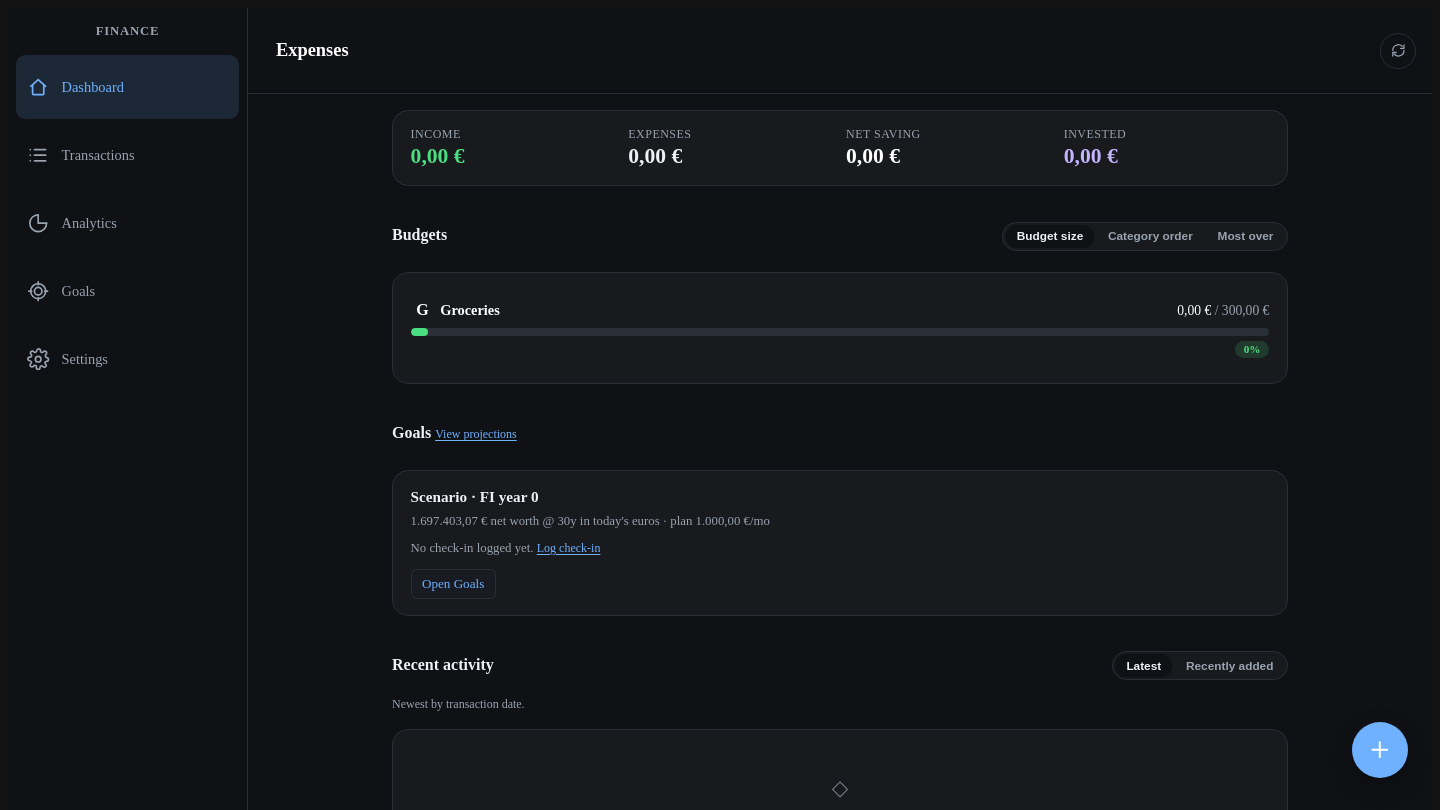
ExpensesApp tab wiring › sends the dashboard nudge to Goals with the check-in form open
Click the button "Log check-in": (569, 548) [537,541,600,556]
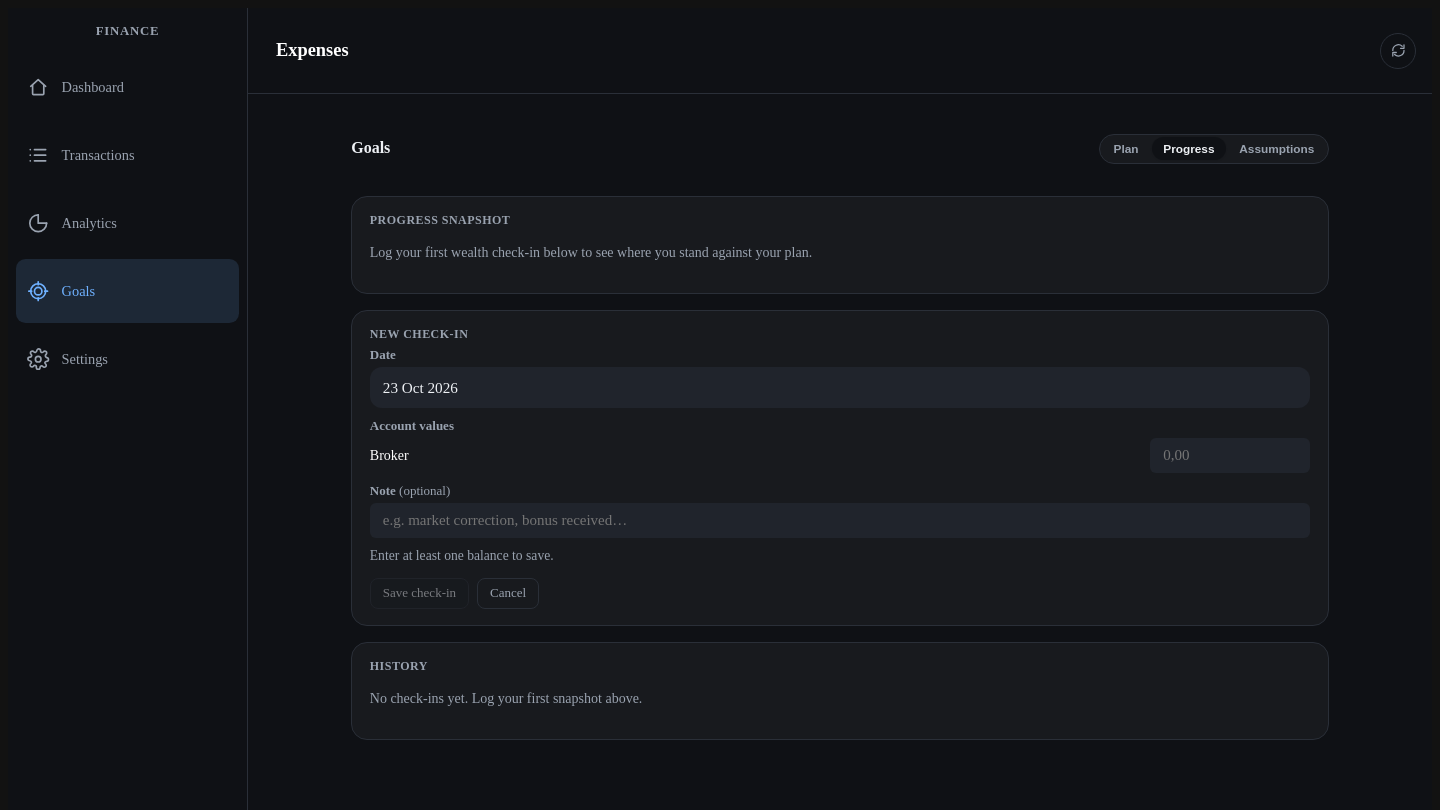
Result: the button "Save check-in" is shown at [370,578,469,609]
